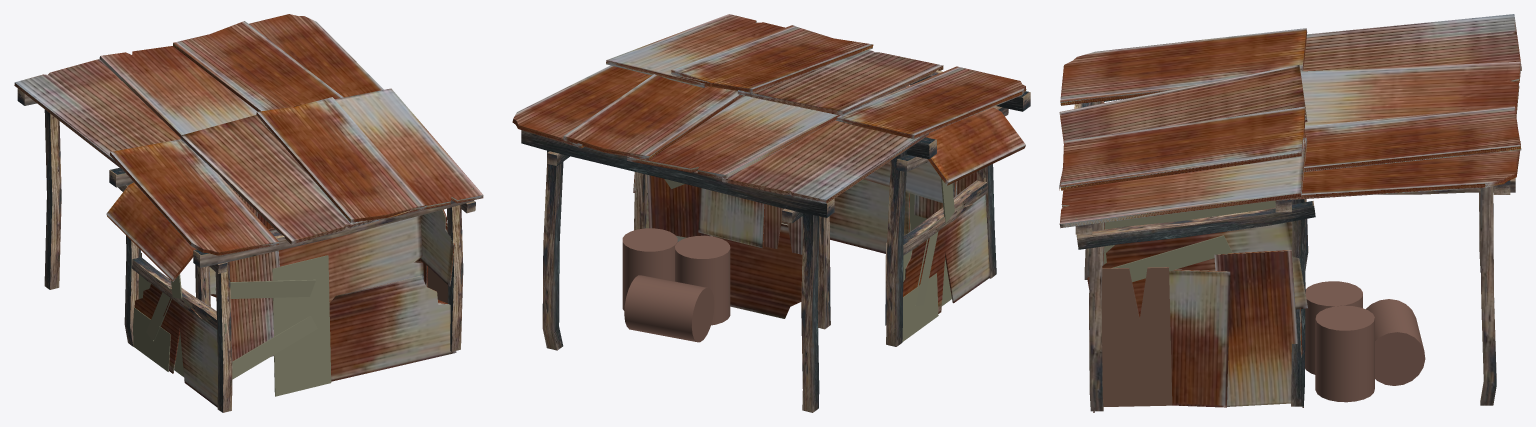
File: river-shack.zfix-v14.lod1.glb
3 renders of one model, left to right at view 1: azimuth 30°, elevation 25°; view 2: azimuth 150°, elevation 25°; view 3: azimuth 270°, elevation 25°, orthographic. The views are drawn at different scales.
Visible parts, largest first — view 1: pCube1_lambert2_0, pCube4_lambert4_0, pasted__pCube3_pasted__lambert3_0; view 2: pCube1_lambert2_0, pCube4_lambert4_0, pasted__pCube3_pasted__lambert3_0; view 3: pCube1_lambert2_0, pasted__pCube3_pasted__lambert3_0, pCube4_lambert4_0.
Boxes of the visible parts, <box> form: pCube1_lambert2_0: <box>14,14,483,407</box>; pCube4_lambert4_0: <box>17,88,475,412</box>; pasted__pCube3_pasted__lambert3_0: <box>133,223,447,396</box>; pCube1_lambert2_0: <box>512,14,1026,318</box>; pCube4_lambert4_0: <box>521,17,1030,412</box>; pasted__pCube3_pasted__lambert3_0: <box>622,178,963,342</box>; pCube1_lambert2_0: <box>1059,14,1521,412</box>; pasted__pCube3_pasted__lambert3_0: <box>1102,201,1425,406</box>; pCube4_lambert4_0: <box>1074,98,1515,411</box>.
Bounding box in the file's own units: 4.47 × 2.96 × 5.
Materials: 3 (2 with a texture image).
